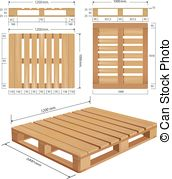pallet: (9, 102, 159, 174), (8, 32, 81, 96), (94, 21, 148, 91)
